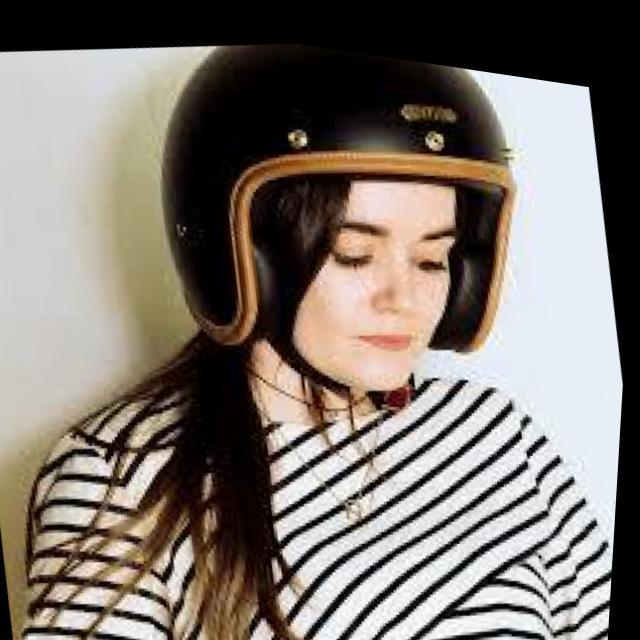Helmet: (158, 44, 520, 398)
